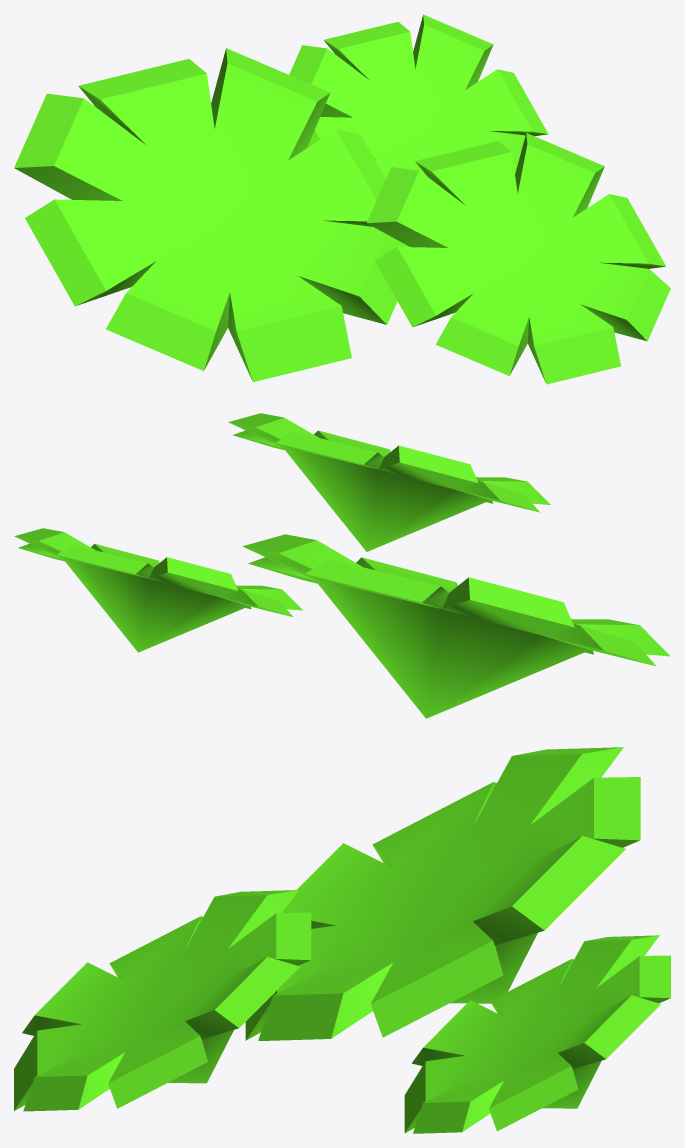
File: SM_Flower_13.FBX
3 views of the same model, one above another, from view 1: azimuth 30°, elevation 25°; view 2: azimuth 150°, elevation 25°; view 3: azimuth 270°, elevation 25° (orthographic). The views are drawn at different scales.
Parts seen in each view (by area): view 1: 13; view 2: 13; view 3: 13.
Boxes of the visible parts, bbox=[...] form: 13: bbox=[14, 14, 670, 384]; 13: bbox=[14, 413, 670, 718]; 13: bbox=[14, 747, 670, 1133].
Size of the model in its own units: 2.58 by 0.8716 by 2.4.
